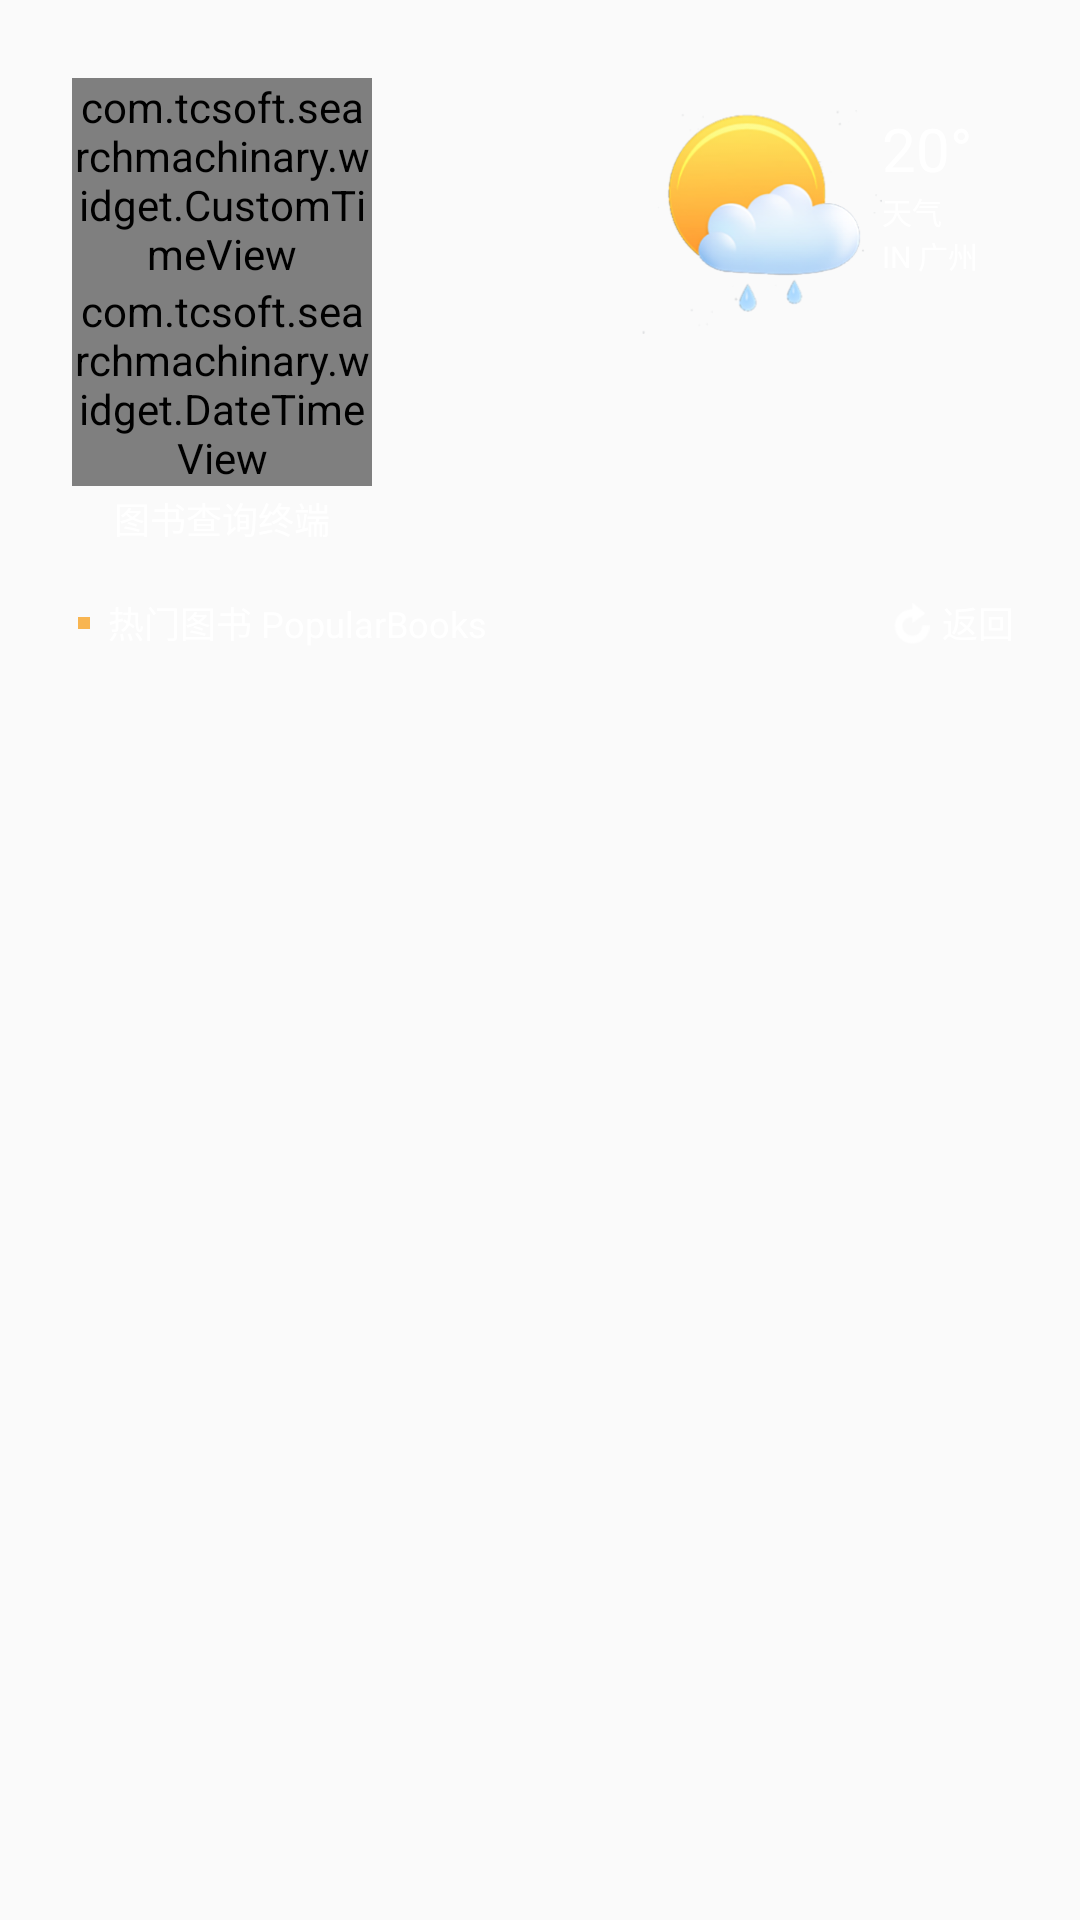

Icon bounding boxes for this 1080*1920 phone screenshot, format box(x1, y1, x2, y2):
weather: box(643, 115, 882, 333)
